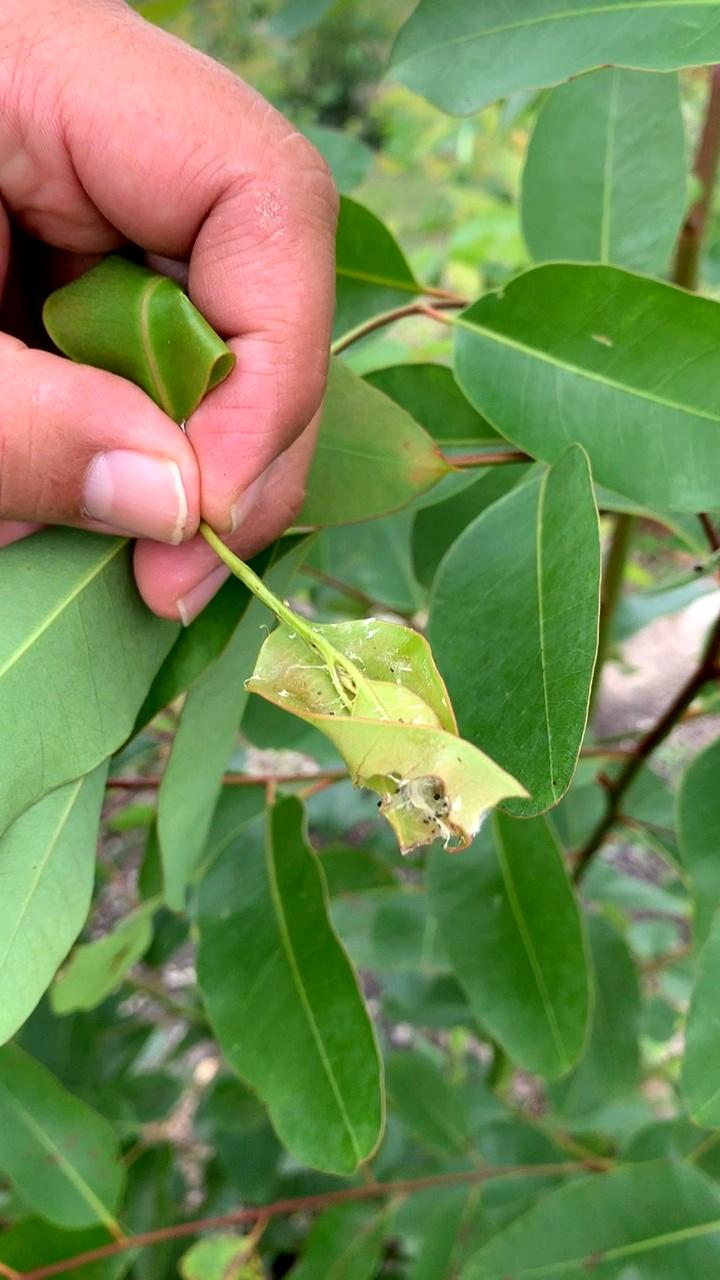Leaf Roller - Leaf: (255, 616, 539, 851)
